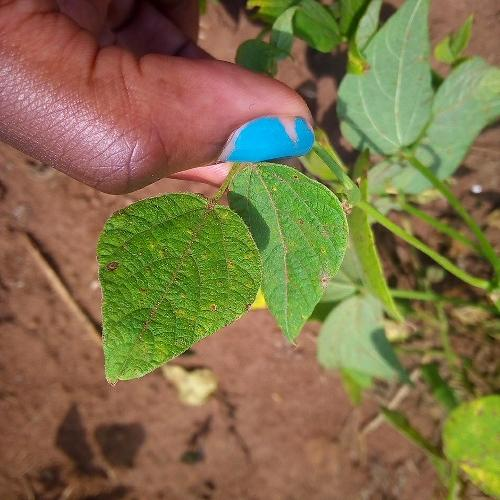sehat: (110, 193, 255, 369)
